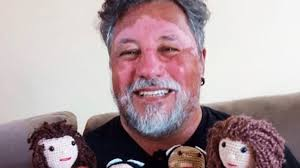vitiligo: (85, 4, 201, 134)
